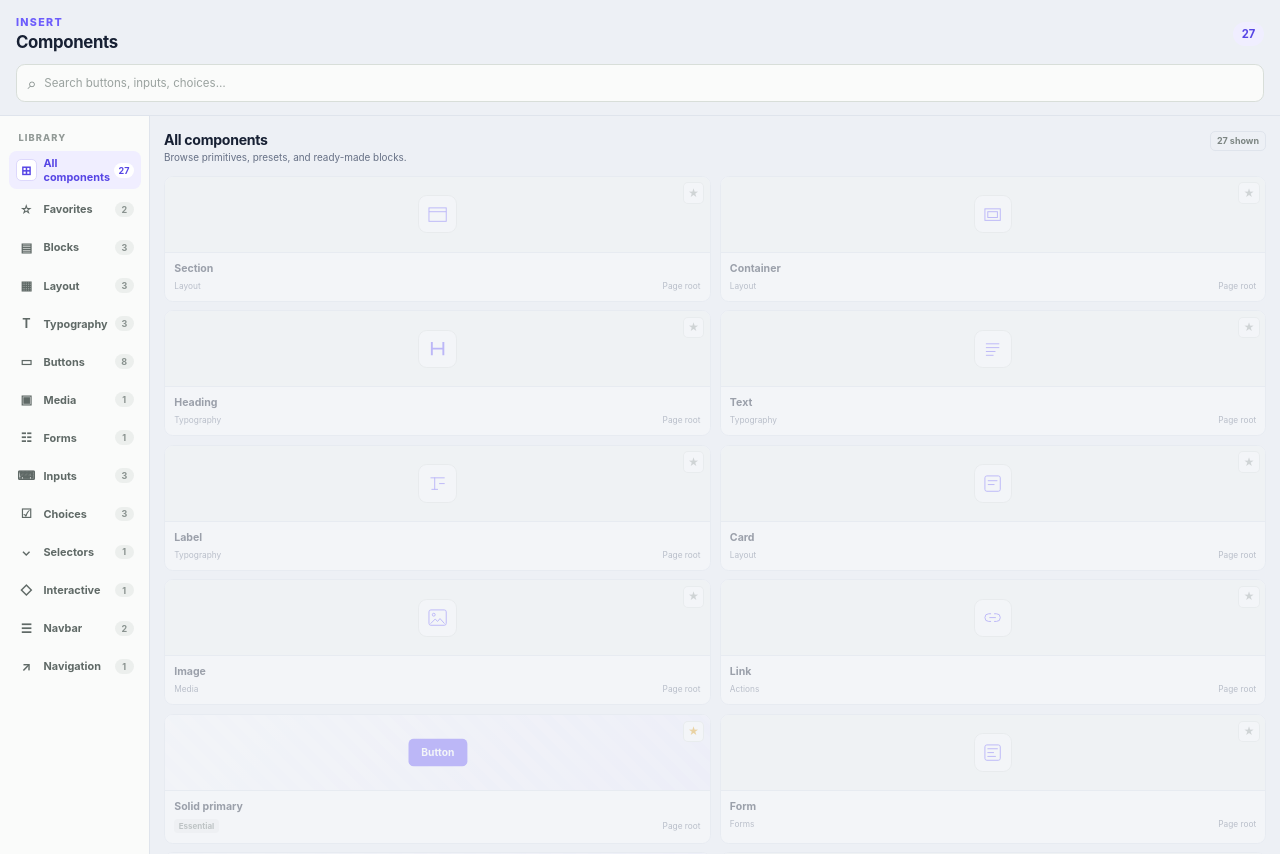
Test: ComponentLibrary › should keep nonvisual Boolean State out of the Component Library
Type "boolean" into the search field named "Search components" at (649, 83), box x1=44 y1=65 x2=1253 y2=101
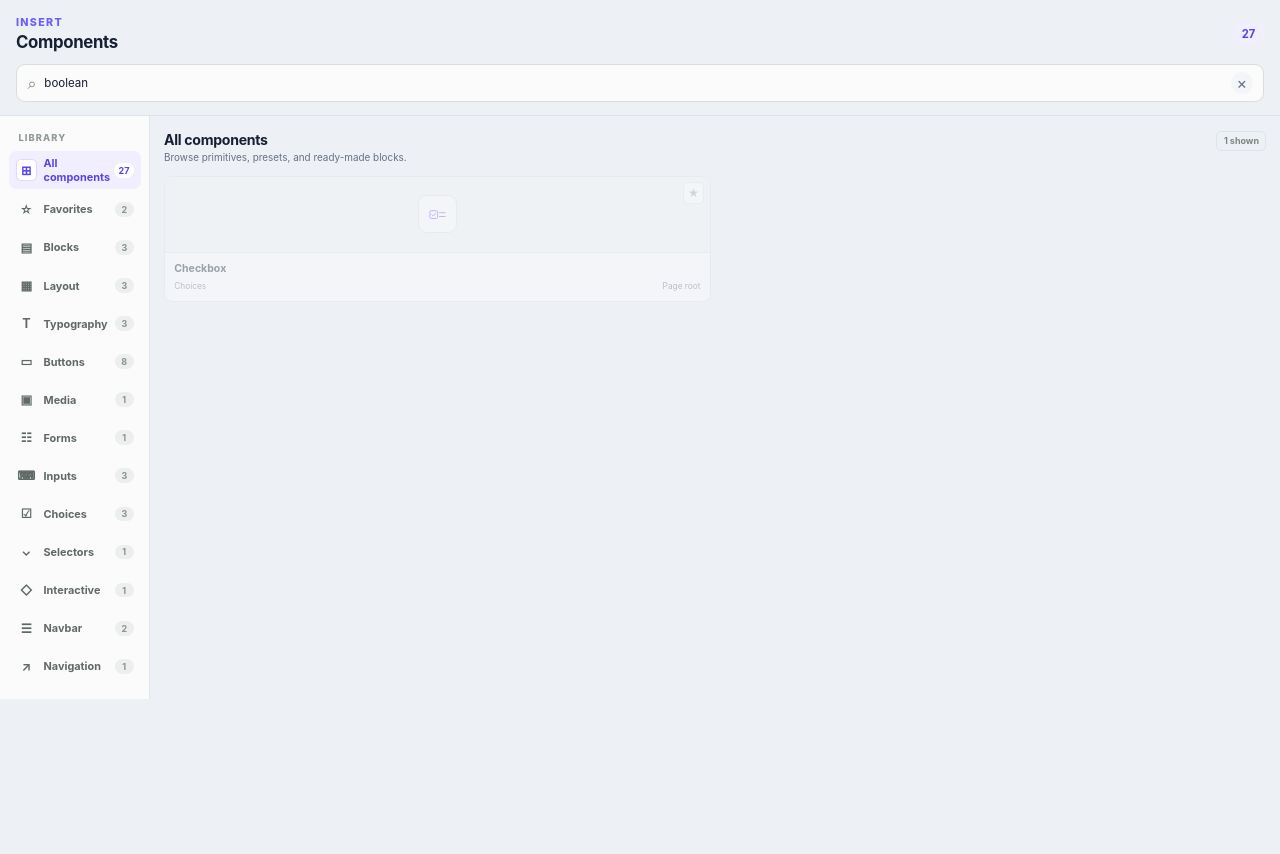
Check: the number of buttons named "Add " is 1, box x1=165 y1=177 x2=710 y2=300
